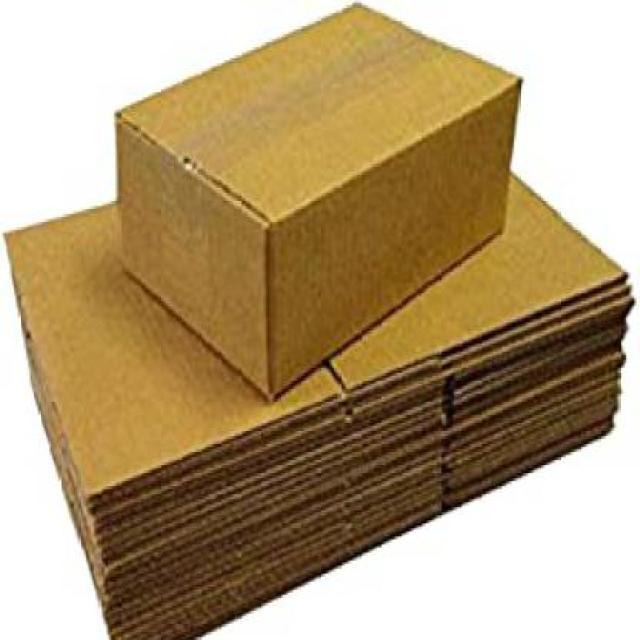box: (0, 152, 638, 639), (101, 4, 542, 408)
